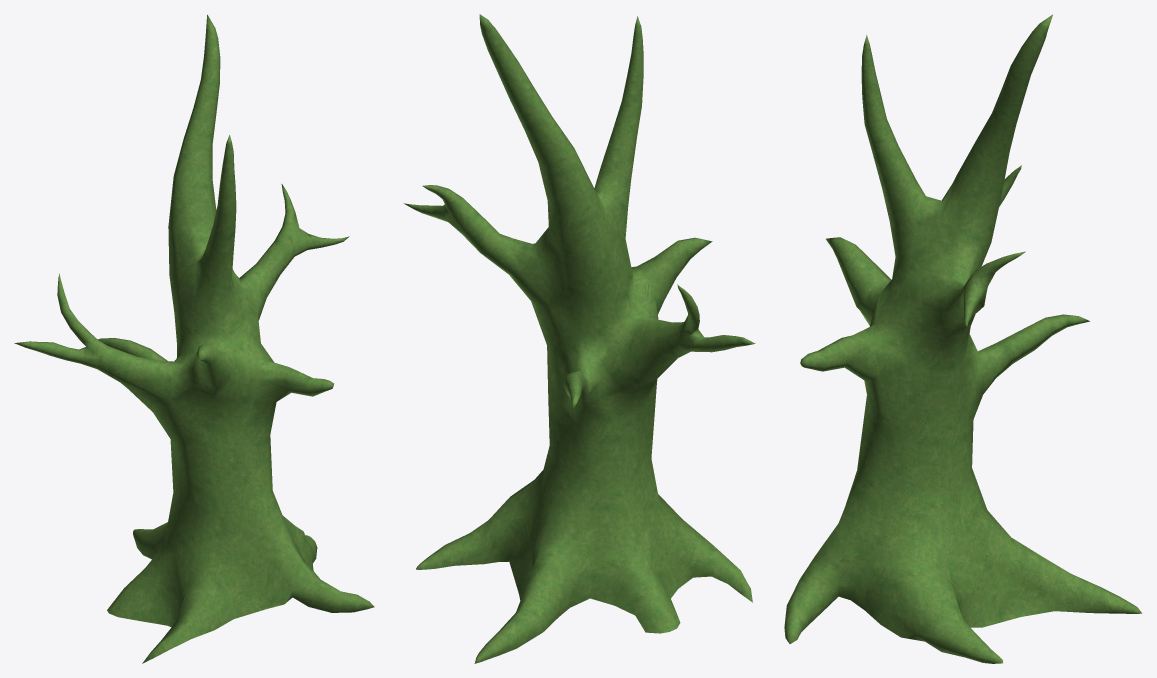
File: SM_ENV_KNFRST_DistanceTree_A.FBX
3 renders of one model, left to right at view 1: azimuth 30°, elevation 25°; view 2: azimuth 150°, elevation 25°; view 3: azimuth 270°, elevation 25°, orthographic. The views are drawn at different scales.
Visible parts, largest first — view 1: SM_ENV_KNFRST_DistanceTree_A; view 2: SM_ENV_KNFRST_DistanceTree_A; view 3: SM_ENV_KNFRST_DistanceTree_A.
Boxes of the visible parts, left/top/right/bottom form: SM_ENV_KNFRST_DistanceTree_A: left=14, top=14, right=374, bottom=663; SM_ENV_KNFRST_DistanceTree_A: left=403, top=14, right=755, bottom=663; SM_ENV_KNFRST_DistanceTree_A: left=784, top=14, right=1142, bottom=663.
Size of the model in its own units: 5400 by 8730 by 4497.
